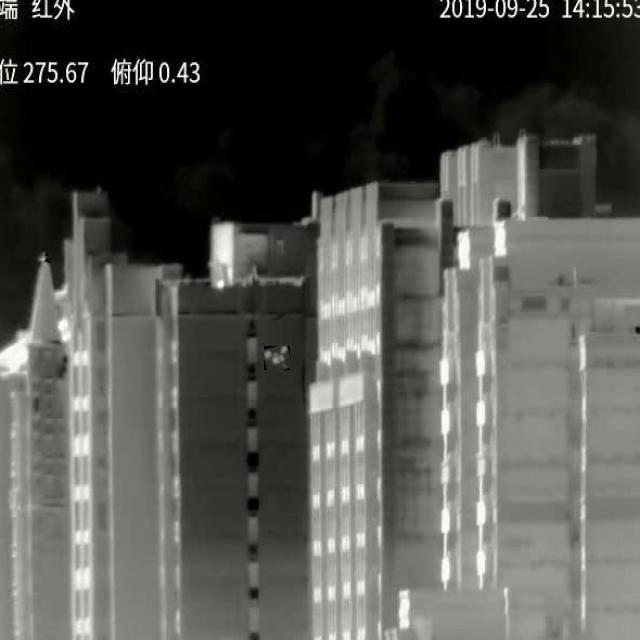drone: (264, 346, 288, 369)
